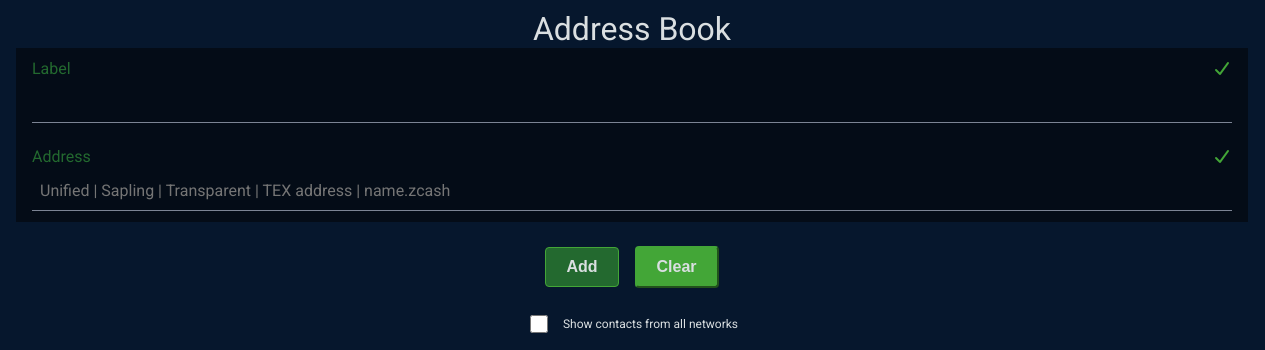
Test: AddressBook › shows 'ZNS lookup failed' when network fails
Type "down.zcash" into the field labelled "Unified | Sapling | Transparent | TEX address | name.zcash" at (632, 190), box x1=32 y1=170 x2=1232 y2=211
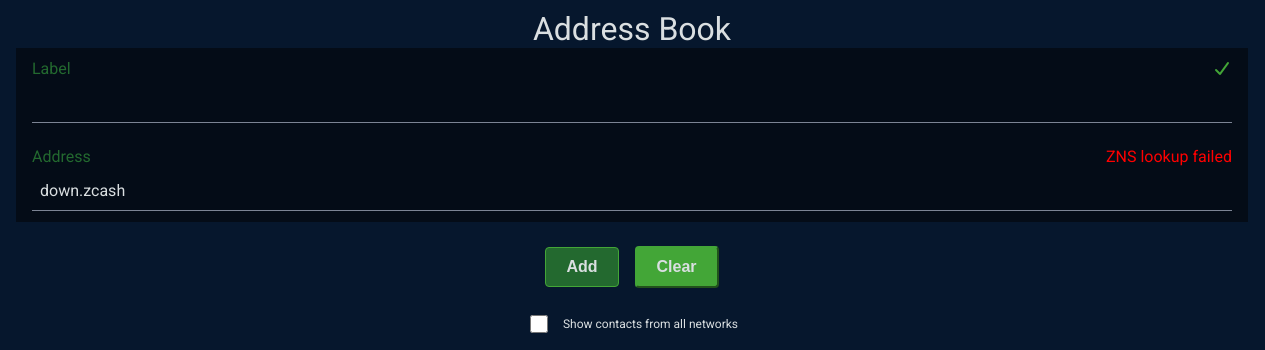
Check: the text "ZNS lookup failed" is shown, box x1=1106 y1=147 x2=1232 y2=166
